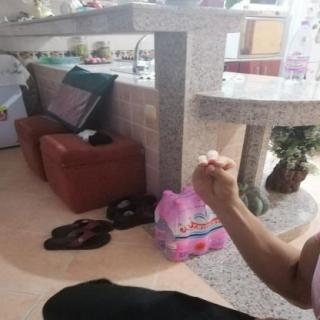HA: (181, 142, 247, 213)
